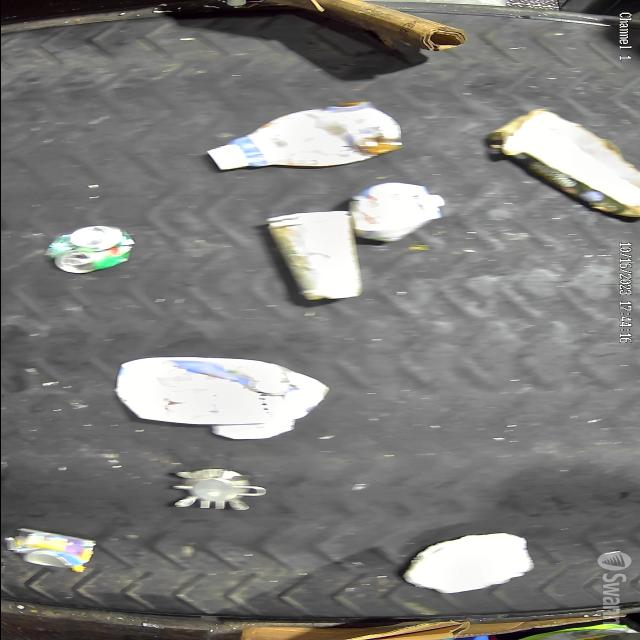can: (40, 220, 136, 275)
milk_jug: (112, 359, 330, 439), (397, 534, 533, 596)
